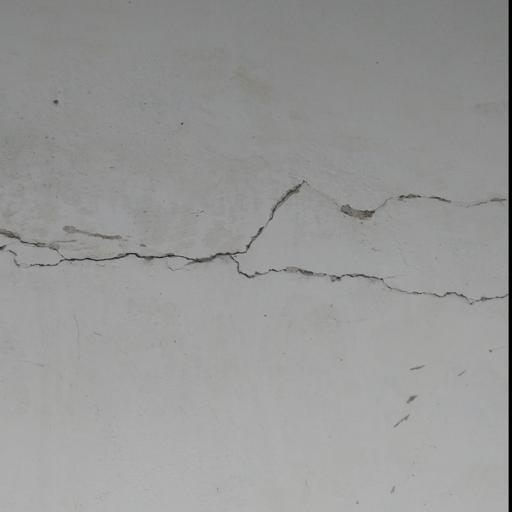major_crack: (0, 165, 512, 319)
